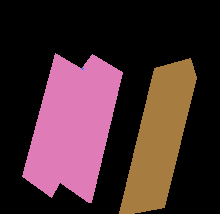parkingspot: (118, 58, 196, 214), (21, 53, 92, 198), (57, 54, 122, 203)
